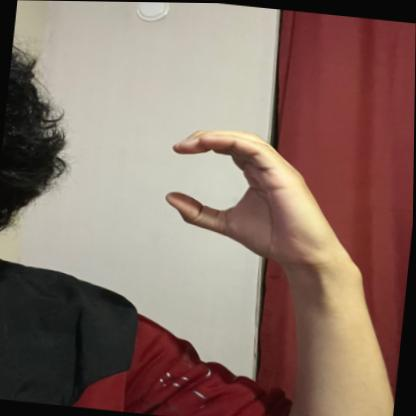C: (154, 116, 338, 267)
